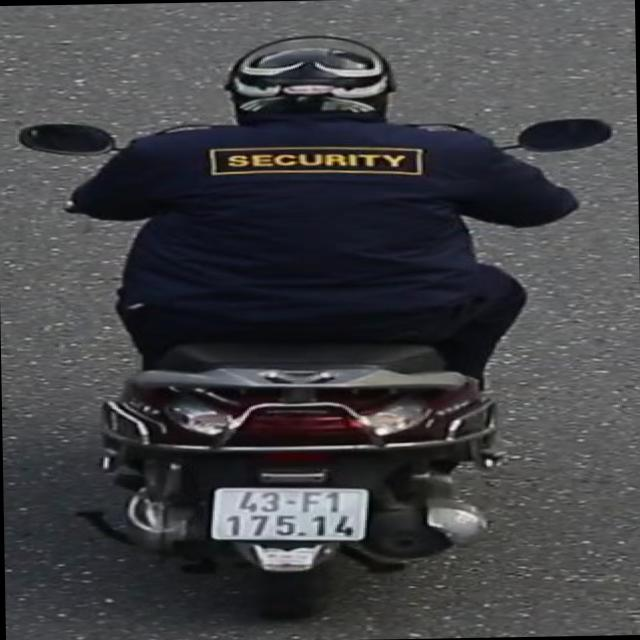LP: (205, 478, 378, 546)
helmet: (220, 28, 408, 124)
